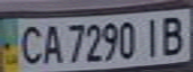0: (118, 17, 142, 61)
2: (81, 19, 106, 63)
7: (63, 20, 84, 64)
9: (100, 19, 121, 62)
A: (39, 21, 63, 65)
B: (157, 12, 190, 56)
C: (15, 21, 45, 66)
I: (139, 15, 166, 58)
